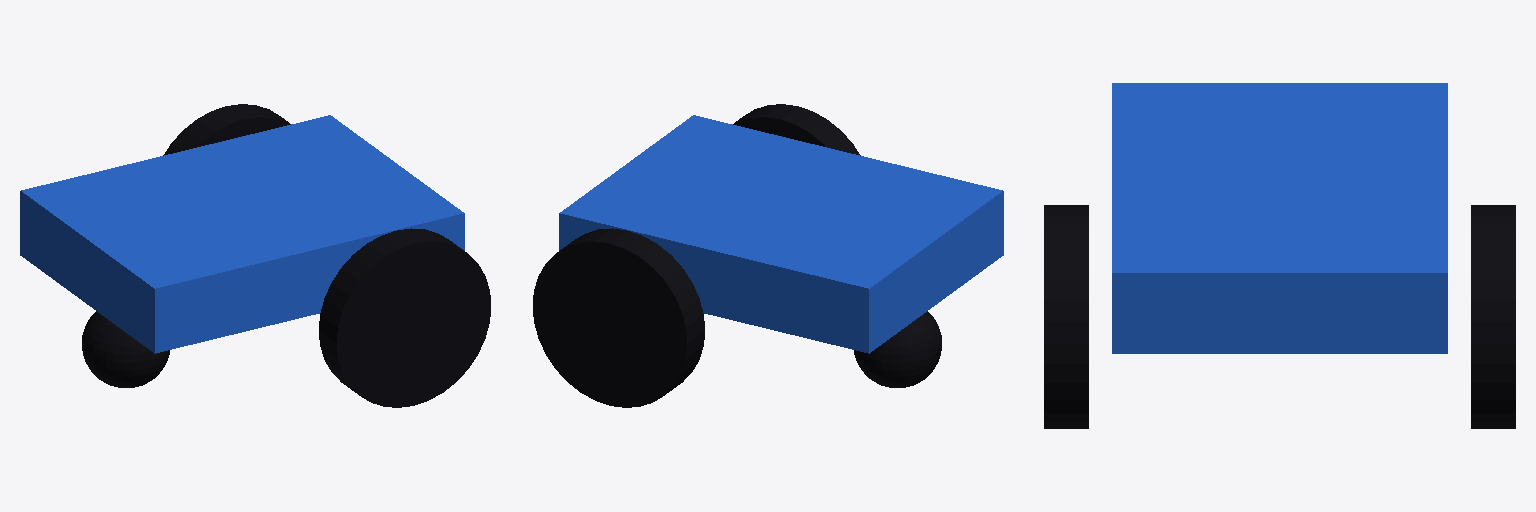
The robot description file, URDF, robot "diffbot":
<?xml version="1.0"?>
<!-- A two-wheel differential-drive robot in ROS conventions (Z up, X forward).
     The wheel joints roll -90 degrees, as many ROS robot files do, so the
     importer must fold that rotation into the wheel shape and axis. -->
<robot name="diffbot">
  <material name="shell"><color rgba="0.20 0.45 0.85 1"/></material>
  <material name="tire"><color rgba="0.1 0.1 0.12 1"/></material>

  <link name="base_footprint"/>

  <link name="base_link">
    <visual><geometry><box size="0.4 0.3 0.08"/></geometry><material name="shell"/></visual>
    <collision><geometry><box size="0.4 0.3 0.08"/></geometry></collision>
    <inertial><mass value="2.0"/><inertia ixx="0.02" ixy="0" ixz="0" iyy="0.03" iyz="0" izz="0.04"/></inertial>
  </link>
  <joint name="base_joint" type="fixed">
    <parent link="base_footprint"/><child link="base_link"/>
    <origin xyz="0 0 0.15" rpy="0 0 0"/>
  </joint>

  <link name="left_wheel">
    <visual><geometry><cylinder radius="0.1" length="0.04"/></geometry><material name="tire"/></visual>
    <collision><geometry><cylinder radius="0.1" length="0.04"/></geometry></collision>
    <inertial><mass value="0.3"/><inertia ixx="0.001" ixy="0" ixz="0" iyy="0.001" iyz="0" izz="0.002"/></inertial>
  </link>
  <joint name="left_wheel_joint" type="continuous">
    <parent link="base_link"/><child link="left_wheel"/>
    <origin xyz="0.1 0.19 -0.05" rpy="-1.5708 0 0"/>
    <axis xyz="0 0 1"/>
    <limit effort="3.0" velocity="10.0"/>
  </joint>

  <link name="right_wheel">
    <visual><geometry><cylinder radius="0.1" length="0.04"/></geometry><material name="tire"/></visual>
    <collision><geometry><cylinder radius="0.1" length="0.04"/></geometry></collision>
    <inertial><mass value="0.3"/><inertia ixx="0.001" ixy="0" ixz="0" iyy="0.001" iyz="0" izz="0.002"/></inertial>
  </link>
  <joint name="right_wheel_joint" type="continuous">
    <parent link="base_link"/><child link="right_wheel"/>
    <origin xyz="0.1 -0.19 -0.05" rpy="-1.5708 0 0"/>
    <axis xyz="0 0 1"/>
    <limit effort="3.0" velocity="10.0"/>
  </joint>

  <link name="caster">
    <visual><geometry><sphere radius="0.05"/></geometry><material name="tire"/></visual>
    <collision><geometry><sphere radius="0.05"/></geometry></collision>
    <inertial><mass value="0.1"/><inertia ixx="0.0001" ixy="0" ixz="0" iyy="0.0001" iyz="0" izz="0.0001"/></inertial>
  </link>
  <joint name="caster_joint" type="fixed">
    <parent link="base_link"/><child link="caster"/>
    <origin xyz="-0.15 0 -0.1" rpy="0 0 0"/>
  </joint>
</robot>

--- What the picture shows (computed from the rendered views, not written in the file) ---
3 views of the same robot in one strip: view 1: azimuth 30°, elevation 25°; view 2: azimuth 150°, elevation 25°; view 3: azimuth 270°, elevation 25° (orthographic).
Model diffbot with 5 links and 4 joints (2 continuous, 2 fixed), rooted at base_footprint, posed all joints at 0.
Visible links, largest first — view 1: base_link, right_wheel, caster, left_wheel; view 2: base_link, left_wheel, caster, right_wheel; view 3: base_link, left_wheel, right_wheel.
Link boxes in pixels (<box>): base_link: <box>20,115,464,353</box>; right_wheel: <box>319,228,490,407</box>; caster: <box>82,311,169,387</box>; left_wheel: <box>163,104,290,155</box>; base_link: <box>559,115,1003,353</box>; left_wheel: <box>533,228,704,407</box>; caster: <box>854,311,941,387</box>; right_wheel: <box>733,104,860,155</box>; base_link: <box>1112,83,1447,353</box>; left_wheel: <box>1471,205,1515,428</box>; right_wheel: <box>1044,205,1088,428</box>.
Bounding box of the posed robot: 0.4 × 0.42 × 0.2 m (x, y, z).
Geometry: primitives only (box / cylinder / sphere), no mesh files.
